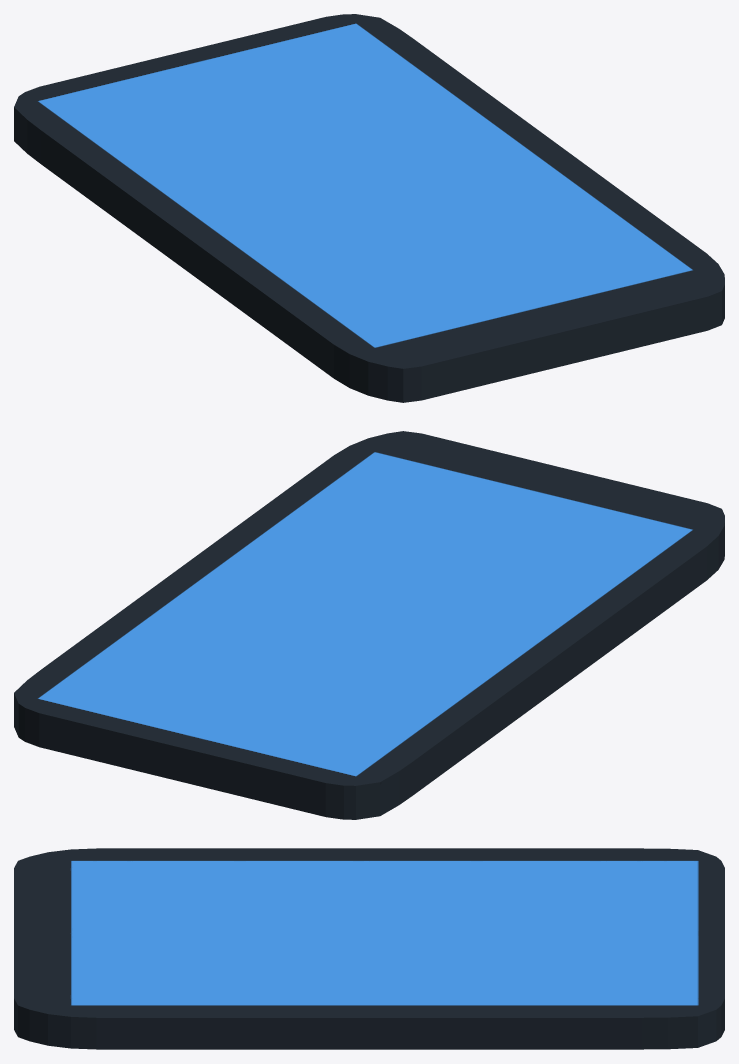
File: phone.fbx
3 renders of one model, top to bottom at view 1: azimuth 30°, elevation 25°; view 2: azimuth 150°, elevation 25°; view 3: azimuth 270°, elevation 25°, orthographic. The views are drawn at different scales.
Parts seen in each view (by area): view 1: mesh_Phone; view 2: mesh_Phone; view 3: mesh_Phone.
Part boxes in pixels (bbox=[...]): mesh_Phone: bbox=[14, 14, 724, 402]; mesh_Phone: bbox=[14, 431, 724, 819]; mesh_Phone: bbox=[14, 848, 724, 1049].
Size of the model in its own units: 0.2278 by 0.0199 by 0.4041.
Materials: 1 (1 with a texture image).
